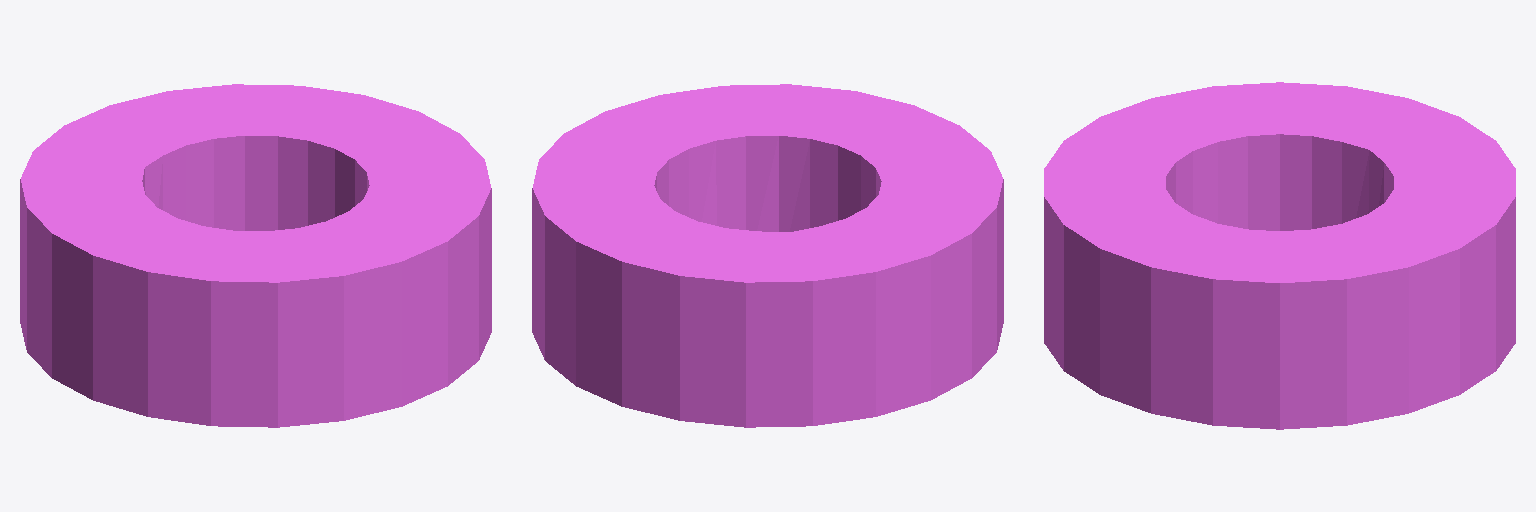
robot.urdf — tape:
<?xml version="1.0" ?>
<robot name="tape">
  <link name="tapeLink">
    <inertial>
      <origin rpy="0 0 0" xyz="0 0 0"/>
       <mass value="4.0"/>
       <inertia ixx="1" ixy="0" ixz="0" iyy="1" iyz="0" izz="1"/>
    </inertial>
    <visual>
      <origin rpy="0 0 0" xyz="0 0 0"/>
      <geometry>
		    <mesh filename="tape.obj" scale="1 1 1"/>
      </geometry>
       <material name="white">
        <color rgba="1 0.5 1 1"/>
      </material>
    </visual>
    <collision>
      <origin rpy="0 0 0" xyz="0 0 0"/>
      <geometry>
	 	    <mesh filename="tape_cvx_simple.obj" scale="1 1 1"/>
      </geometry>
    </collision>
  </link>
</robot>

--- Render facts (derived) ---
3 views of the same robot in one strip: view 1: azimuth 30°, elevation 25°; view 2: azimuth 150°, elevation 25°; view 3: azimuth 270°, elevation 25° (orthographic).
Robot: tape — 1 links, 0 joints (none); root link tapeLink; default pose: all joints at 0.
Visible links, largest first — view 1: tapeLink; view 2: tapeLink; view 3: tapeLink.
Boxes of the visible links, x1,y1,x2,y2 form: tapeLink: (20, 84, 491, 427); tapeLink: (532, 84, 1003, 427); tapeLink: (1044, 82, 1515, 429).
Size in the robot's own frame: 0.25 by 0.2475 by 0.0848 metres.
Meshes: 1 distinct files referenced, 1 mesh visuals loaded (1 OBJ).